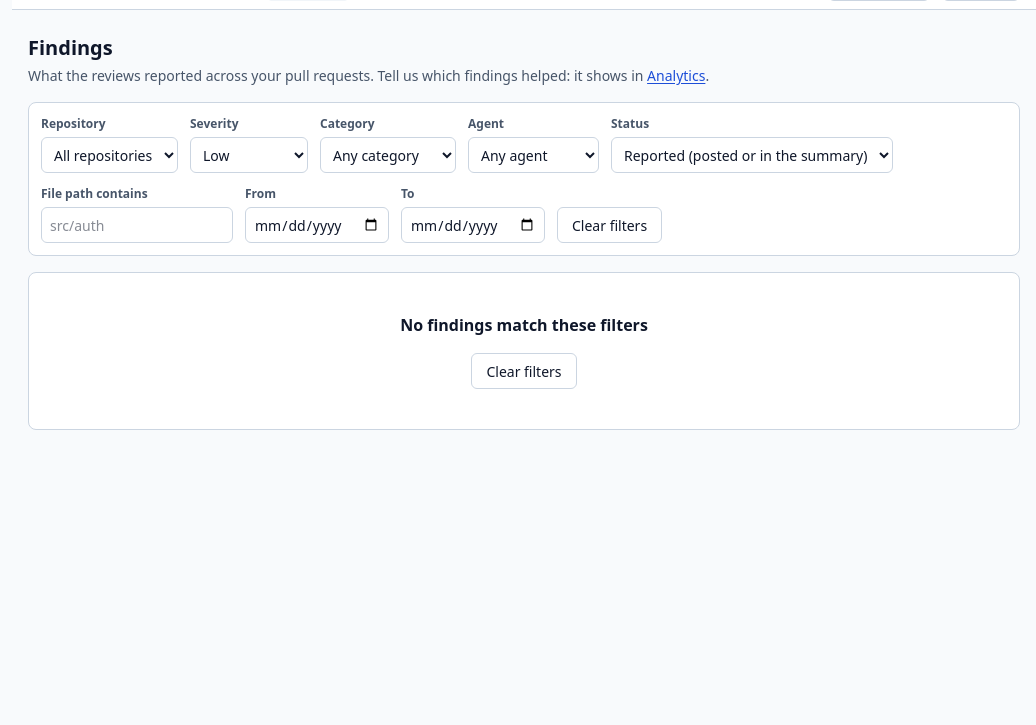
Test: Findings explorer › says when nothing matches and clears the filters
Expected: the heading "No findings match these filters" is shown, [400,313,648,337]
Step 1. Click the button "Clear filters" below "Category" → (610, 225), box [557,207,662,243]
(page scrolled)
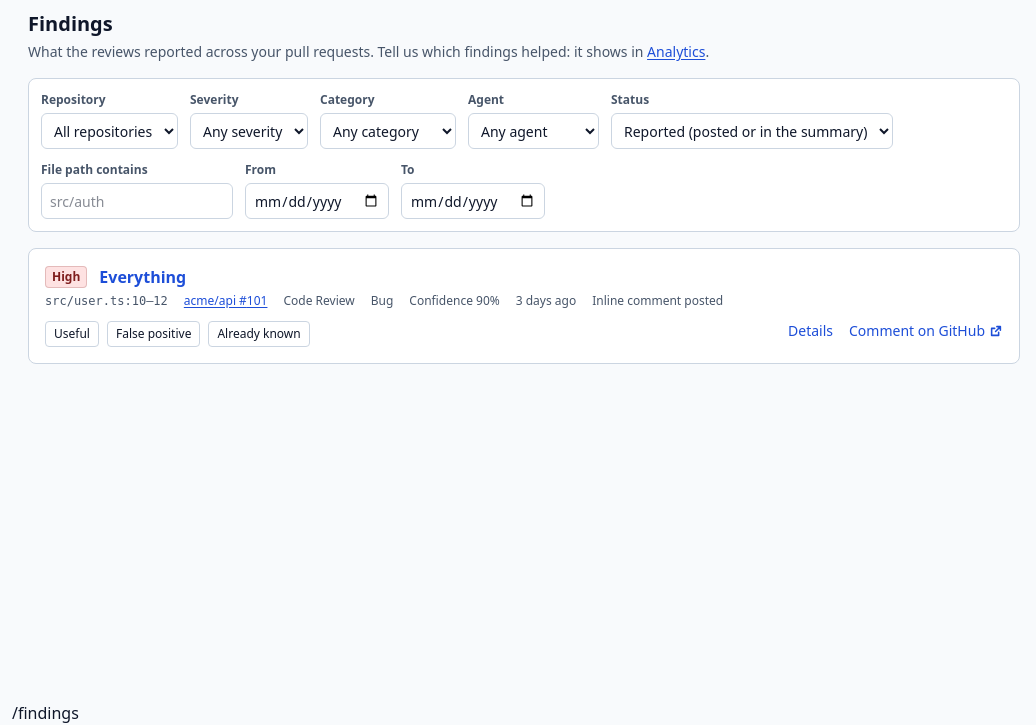
Now the link "Everything" is shown, box [99,265,186,289]
Now the text with test id "location" reads "/findings", box [12,702,79,724]
